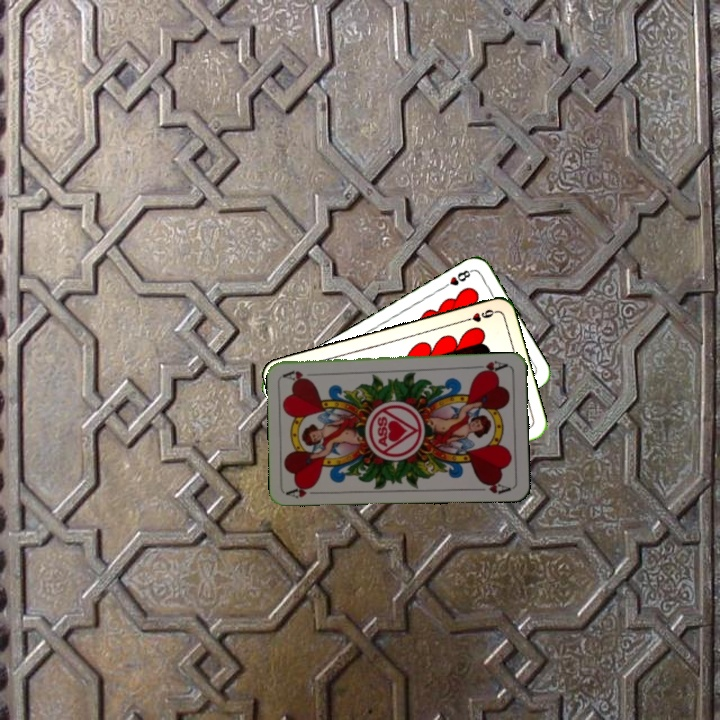H8: (438, 265, 475, 292)
H9: (459, 305, 498, 325)
HA: (284, 481, 325, 501), (470, 357, 510, 376)
